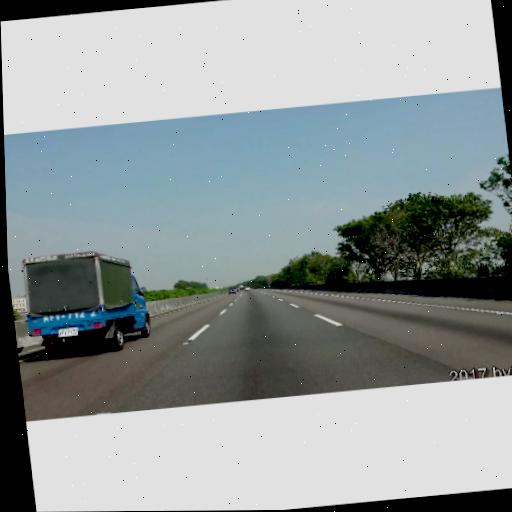Car: (22, 245, 153, 359), (228, 287, 235, 294), (245, 287, 250, 291)
